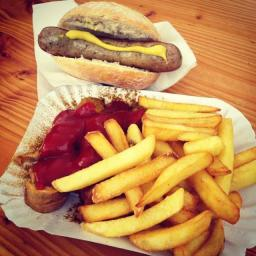hotdog: (50, 91, 256, 256), (36, 0, 184, 89)
